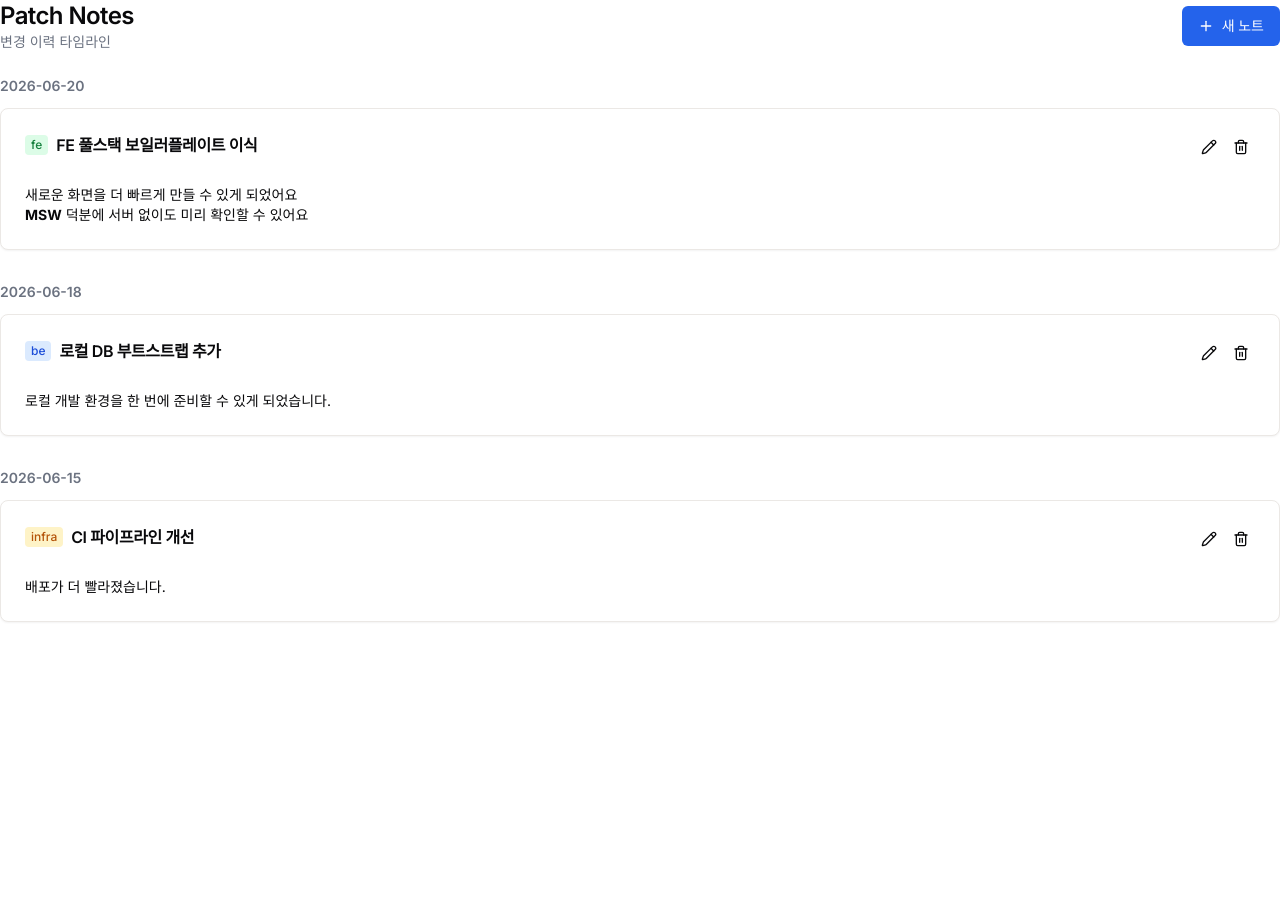
Test: PatchNotesPage (MSW-mocked) › creates a note with both bodies and shows the user_body in the default view
The width and height of the screenshot is (1280, 900).
Expected: the text "FE 풀스택 보일러플레이트 이식" is shown, [56,133,257,157]
Step 1. Click the button "새 노트" → (1231, 26), box [1182,6,1279,46]
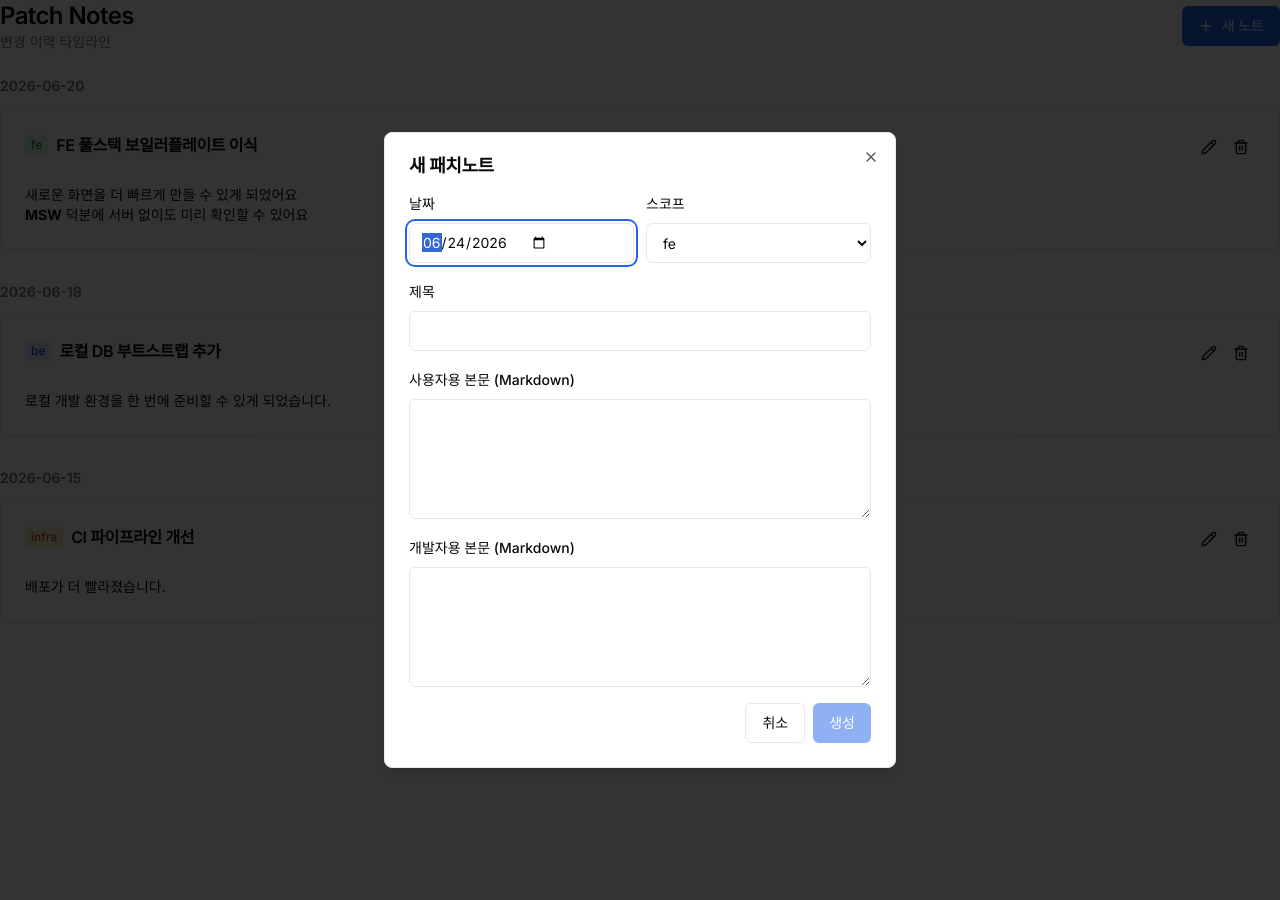
Step 2. Type "새로 만든 노트" into the field labelled "제목" → (640, 331), box [409,311,871,351]
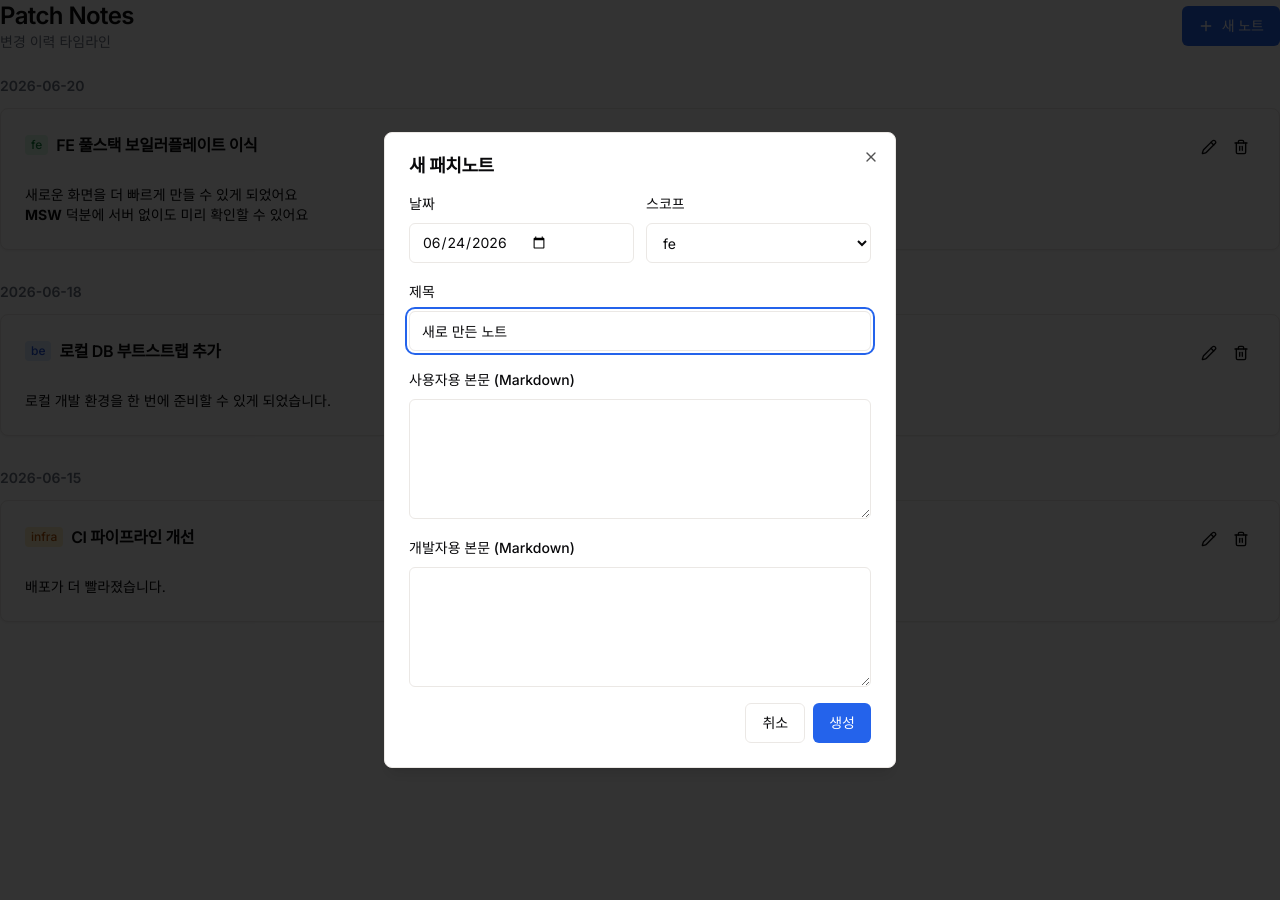
Step 3. Type "사용자에게 보이는 내용" into the text box labelled "사용자용 본문 (Markdown)" → (640, 459), box [409,399,871,519]
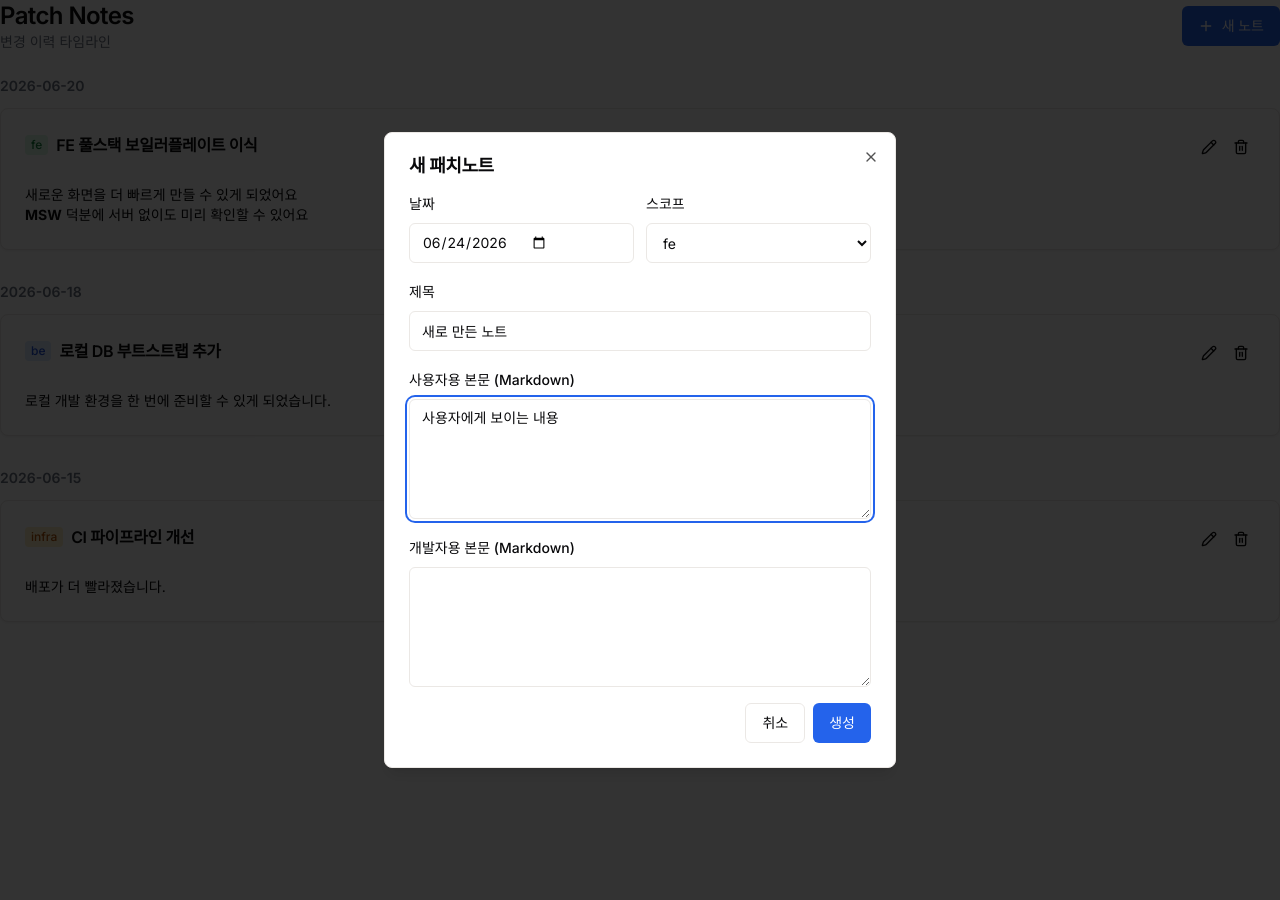
Step 4. Type "개발자에게 보이는 내용" into the text box labelled "개발자용 본문 (Markdown)" → (640, 627), box [409,567,871,687]
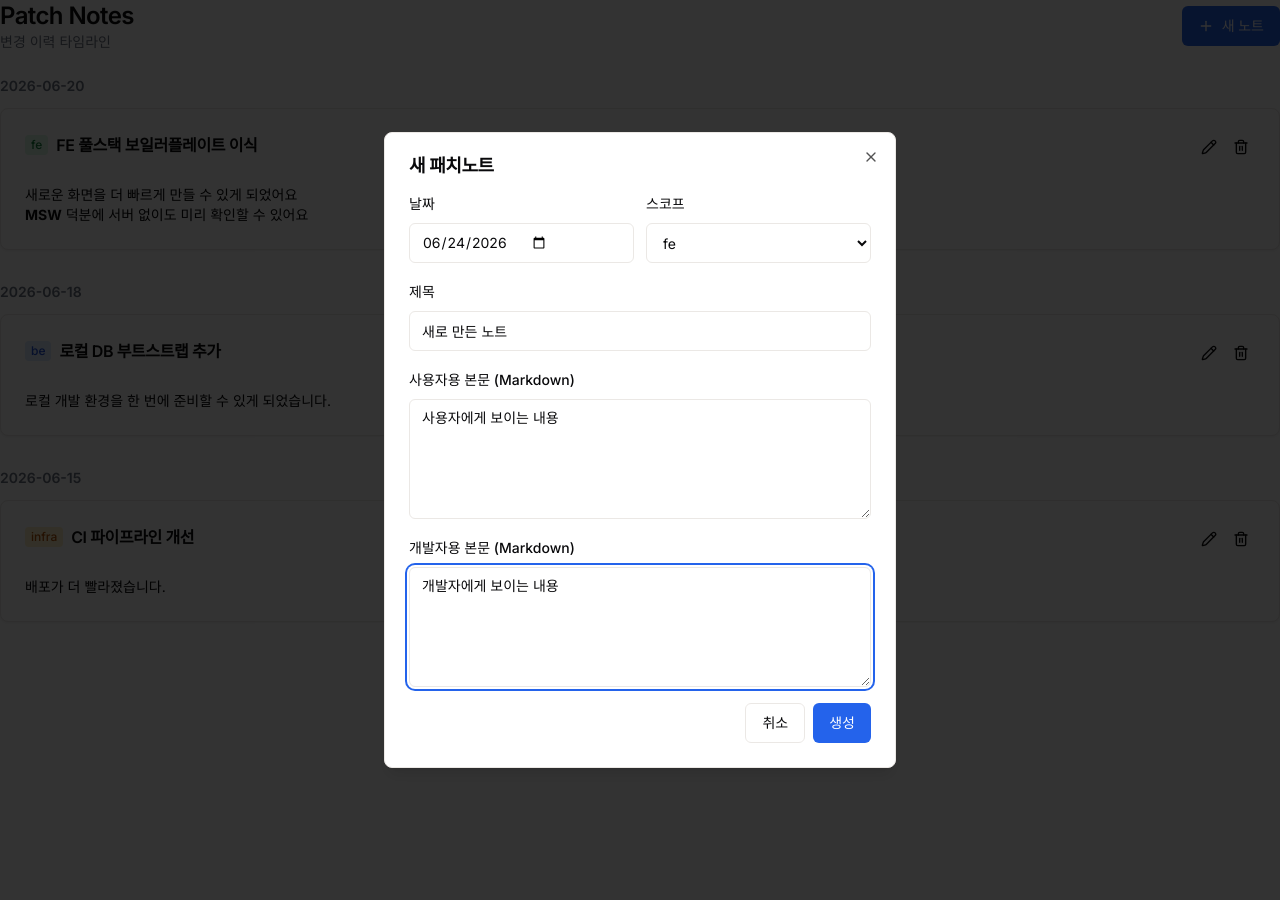
Step 5. Click the button "생성" → (842, 723), box [813,703,871,743]
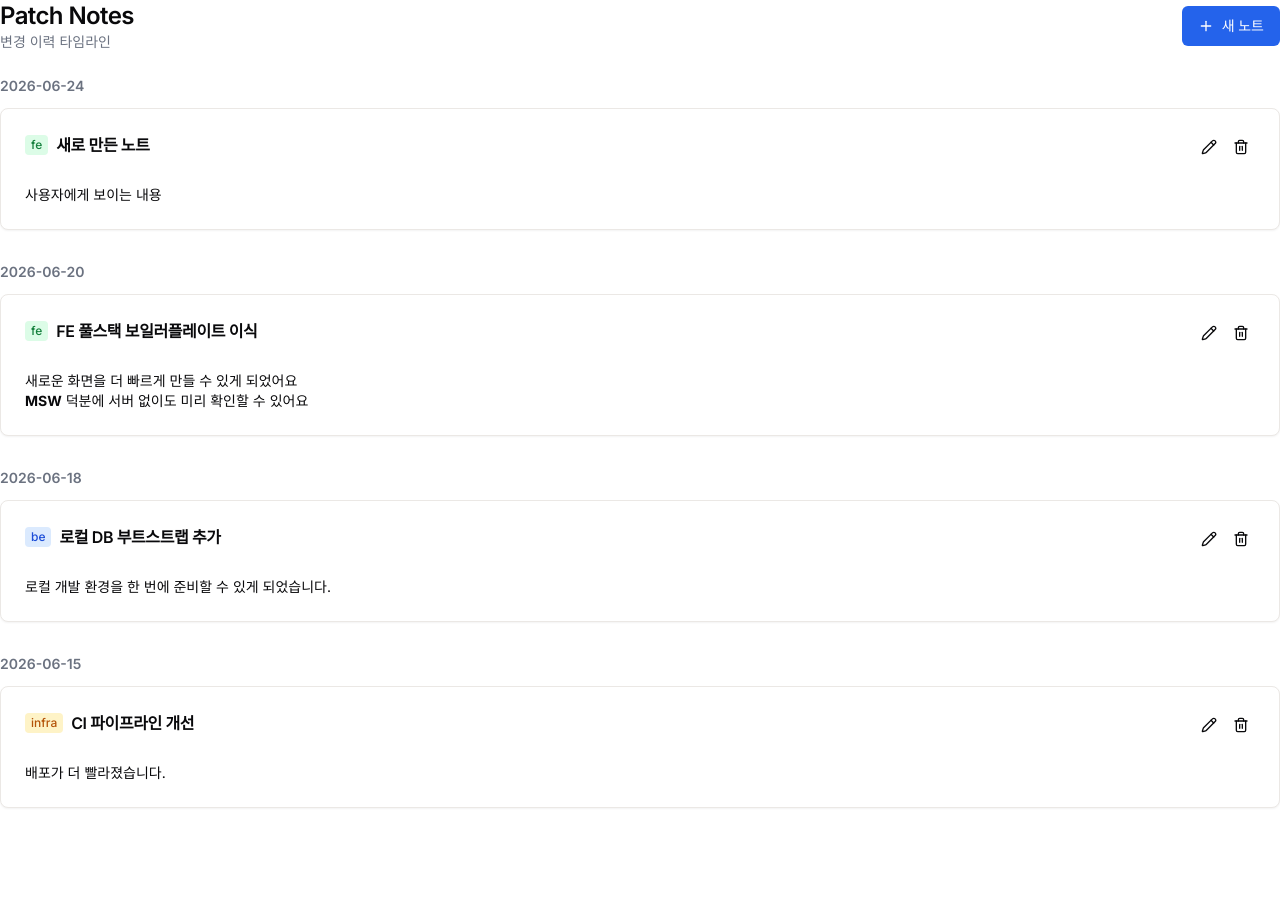
Expected: the text "새로 만든 노트" is shown, [56,133,150,157]
Expected: the text "사용자에게 보이는 내용" is shown, [25,186,162,203]
